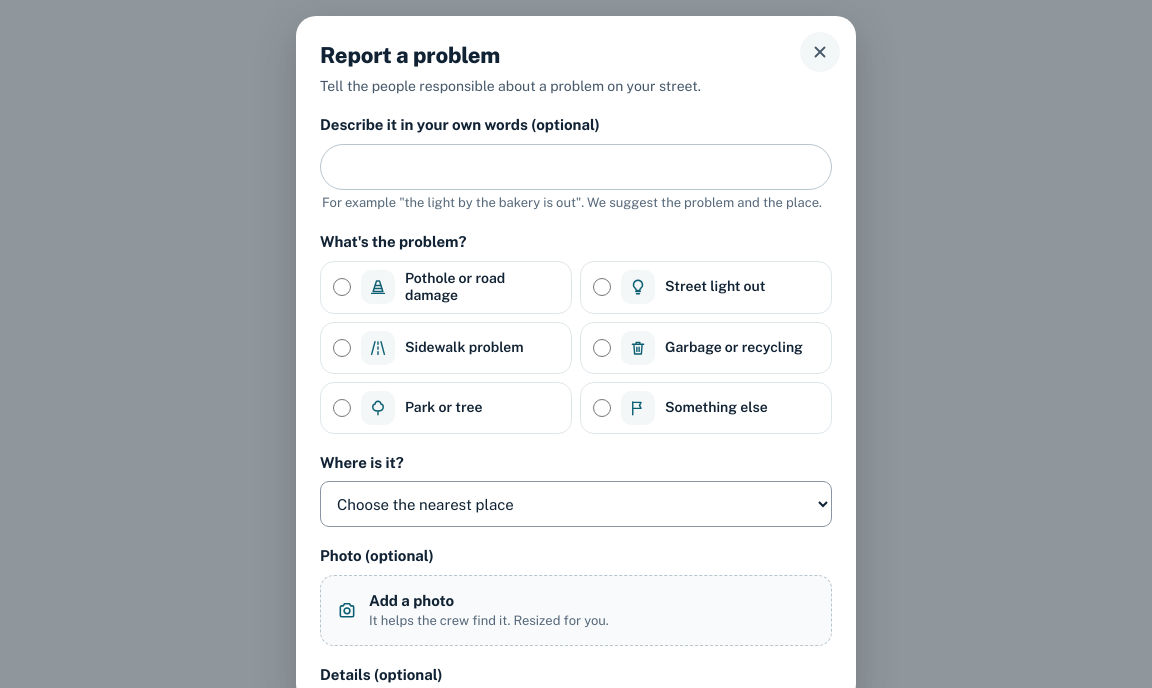
Test case: smart suggestion ("Describe it in your own words") › "Use this" fills in the problem, the place and the details
The image size is (1152, 688).
Type "The light by the bakery flickers all night" into the field labelled "Describe it in your own words (optional)".
click(576, 167); type("The light by the bakery flickers all night")  # box [320,144,832,190]
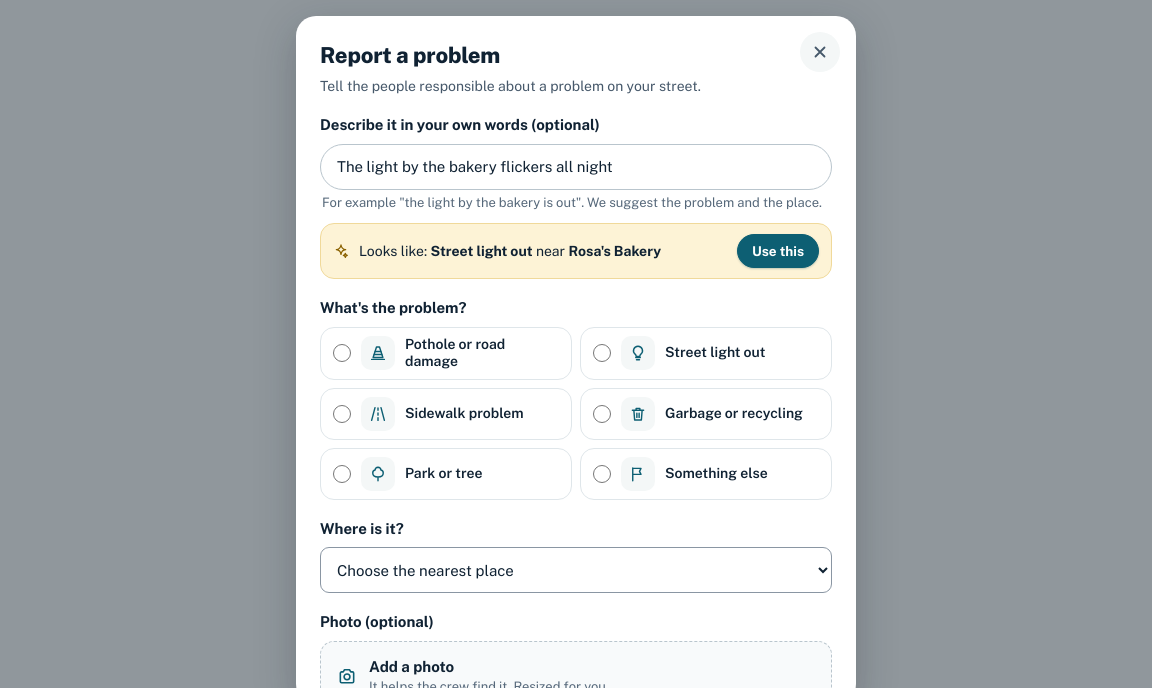
Expected: the text "Looks like: Street light out near Rosa's Bakery" is shown, [359,243,661,259]
Click the button "Use this".
click(778, 251)  # box [737,234,819,268]
(page scrolled)
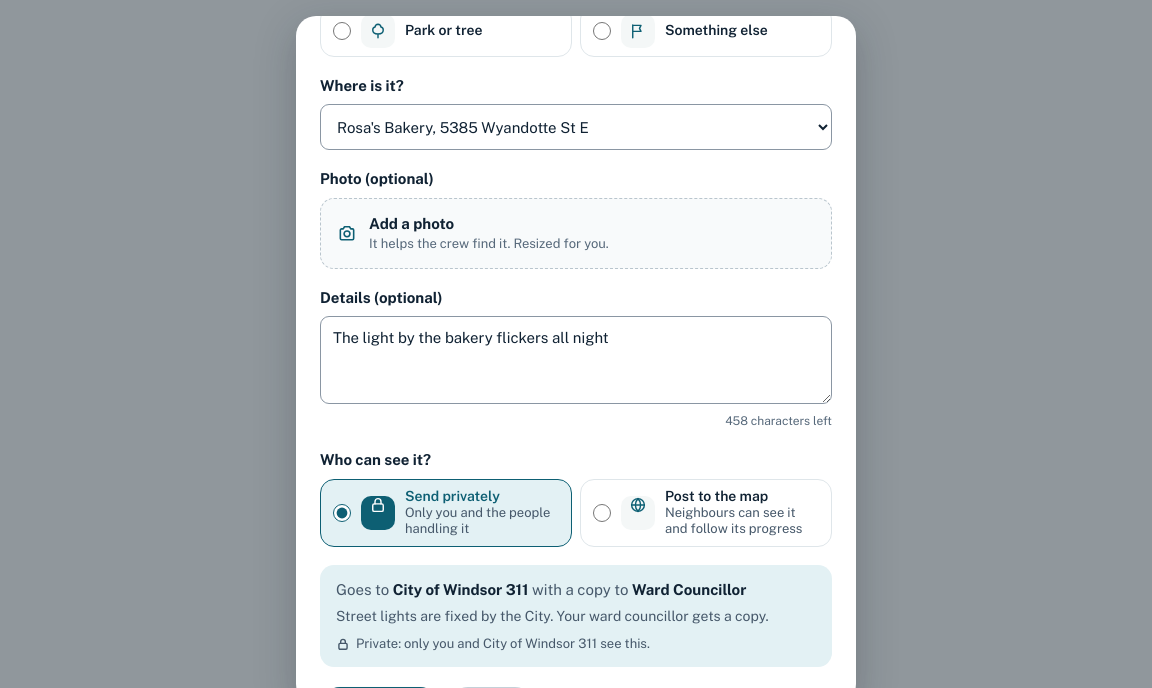
Expected: the dropdown labelled "Where is it?" shows "Rosa's Bakery, 5385 Wyandotte St E", [320,104,832,150]
Expected: the text box labelled "Details (optional)" holds "The light by the bakery flickers all night", [320,316,832,404]
